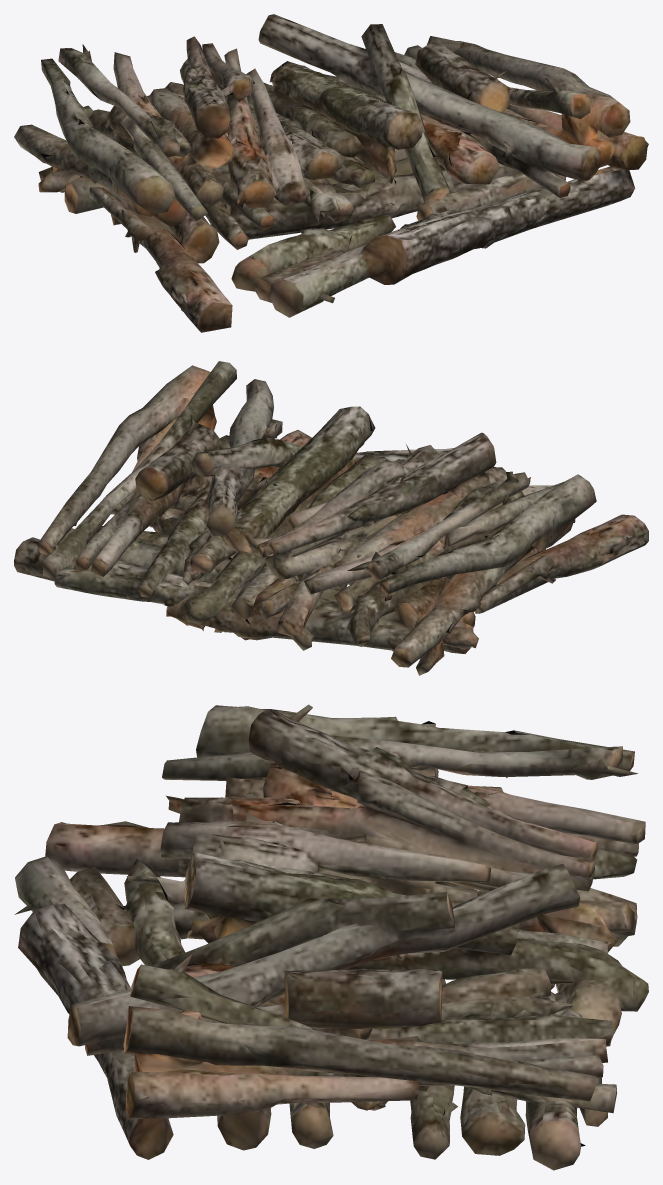
Rendered from logpile.glb.
The picture shows the model from 3 angles, top to bottom: view 1: azimuth 30°, elevation 25°; view 2: azimuth 150°, elevation 25°; view 3: azimuth 270°, elevation 25°; orthographic projection. The views are drawn at different scales.
Visible parts, largest first — view 1: logpile_00; view 2: logpile_00; view 3: logpile_00.
Part boxes in pixels (x1,y1,x2,y2): logpile_00: (14,14,648,332); logpile_00: (14,361,648,675); logpile_00: (14,704,648,1170).
Bounding box in the file's own units: 1.9 × 0.6027 × 1.59.
1 material, 1 textured.
